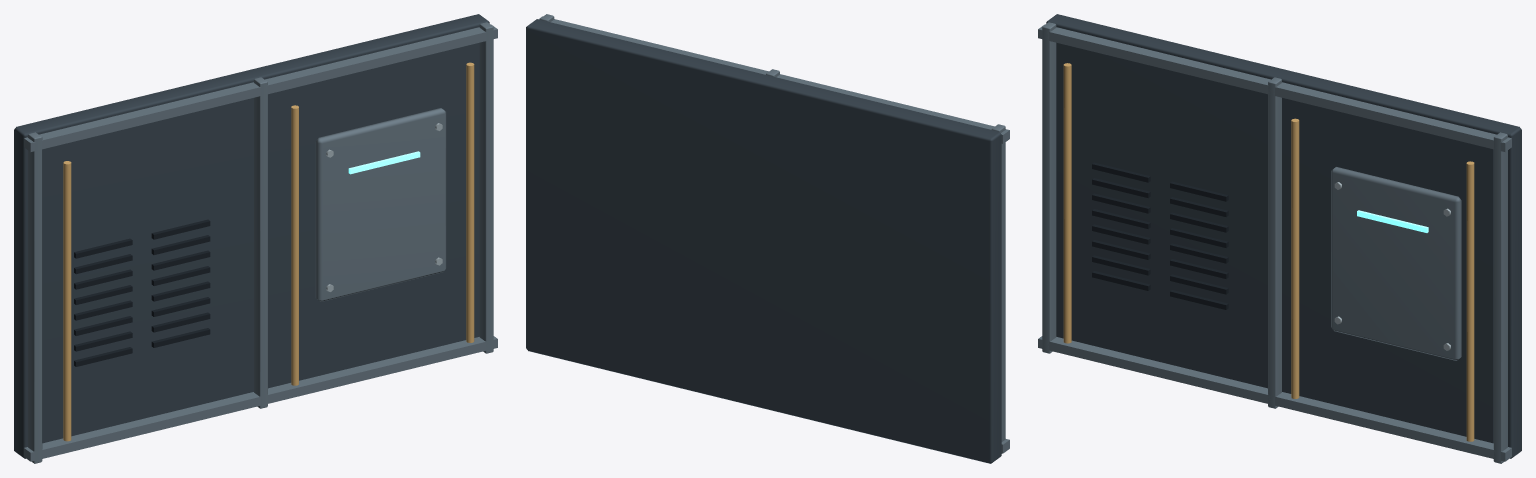
The model's file is nyanisyarud-camera-mechanical-wall.glb.
3 renders of one model, left to right at view 1: azimuth 30°, elevation 25°; view 2: azimuth 150°, elevation 25°; view 3: azimuth 330°, elevation 25°, orthographic.
Parts seen in each view (by area): view 1: Wall, mechanical-wall_edge, mechanical-wall_brass, mechanical-wall_black, WallIndicator; view 2: Wall, mechanical-wall_edge; view 3: Wall, mechanical-wall_edge, mechanical-wall_brass, mechanical-wall_black, WallIndicator.
Part boxes in pixels (<box>): Wall: <box>14,14,489,458</box>; mechanical-wall_edge: <box>24,22,497,463</box>; mechanical-wall_brass: <box>63,62,474,441</box>; mechanical-wall_black: <box>74,219,210,366</box>; WallIndicator: <box>348,151,420,174</box>; Wall: <box>526,19,1001,463</box>; mechanical-wall_edge: <box>539,14,1009,453</box>; Wall: <box>1046,14,1521,458</box>; mechanical-wall_edge: <box>1038,22,1511,463</box>; mechanical-wall_brass: <box>1063,63,1474,441</box>; mechanical-wall_black: <box>1092,162,1228,309</box>; WallIndicator: <box>1357,210,1428,232</box>.
Bounding box in the file's own units: 12 × 8 × 1.05.
